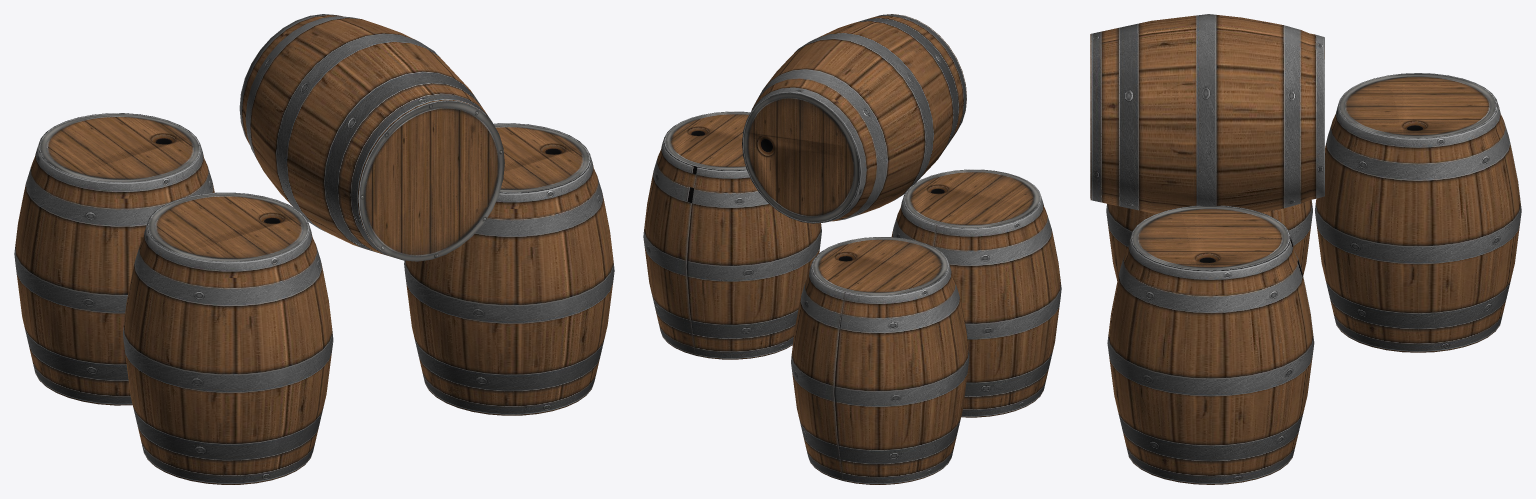
File: бочка.fbx
3 renders of one model, left to right at view 1: azimuth 30°, elevation 25°; view 2: azimuth 150°, elevation 25°; view 3: azimuth 270°, elevation 25°, orthographic. The views are drawn at different scales.
Visible parts, largest first — view 1: Cylinder.002, Cylinder.003, Cylinder, Cylinder.004; view 2: Cylinder.004, Cylinder.003, Cylinder, Cylinder.002; view 3: Cylinder, Cylinder.004, Cylinder.003, Cylinder.002.
Boxes of the visible parts, <box> form: Cylinder.002: <box>123,192,333,484</box>; Cylinder.003: <box>239,14,504,261</box>; Cylinder: <box>404,123,614,415</box>; Cylinder.004: <box>14,113,214,405</box>; Cylinder.004: <box>791,237,969,484</box>; Cylinder.003: <box>742,14,966,223</box>; Cylinder: <box>643,111,821,359</box>; Cylinder.002: <box>891,169,1061,417</box>; Cylinder: <box>1107,205,1314,484</box>; Cylinder.004: <box>1315,73,1521,352</box>; Cylinder.003: <box>1090,14,1324,213</box>; Cylinder.002: <box>1106,199,1312,280</box>.
Size of what is drawn, in the model's own units: 636 by 494 by 534.
4 materials, 4 textured.
